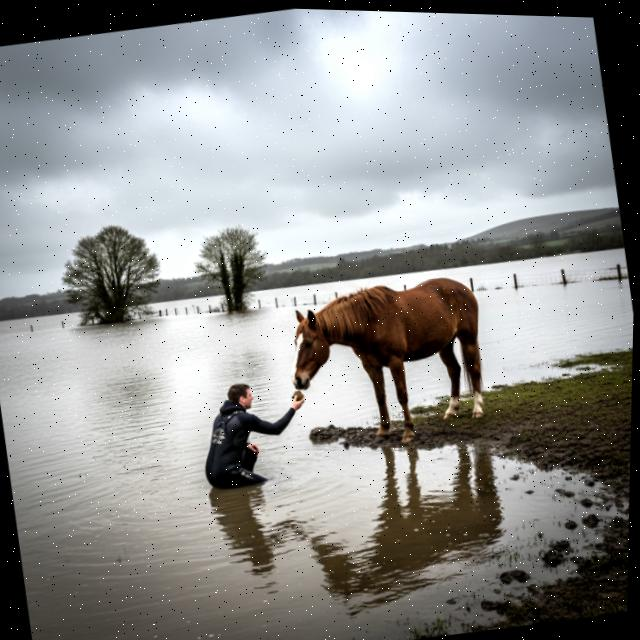civilian: (180, 356, 324, 505)
horse: (263, 259, 525, 461)
